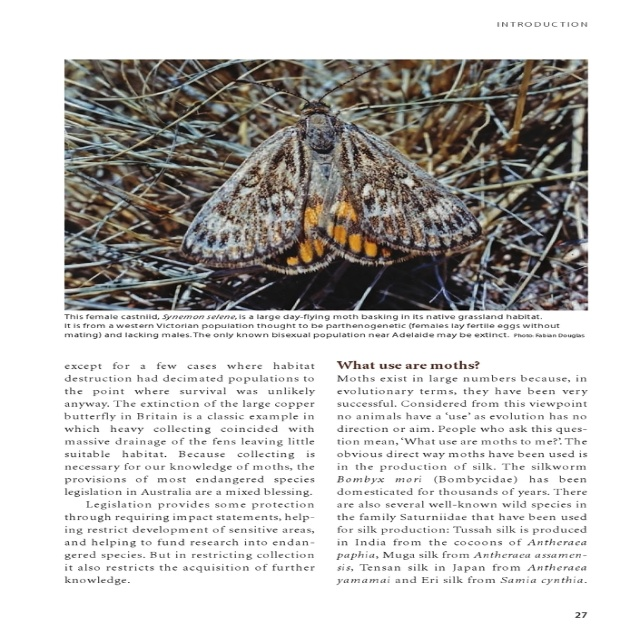Butterfly: (176, 60, 482, 274)
